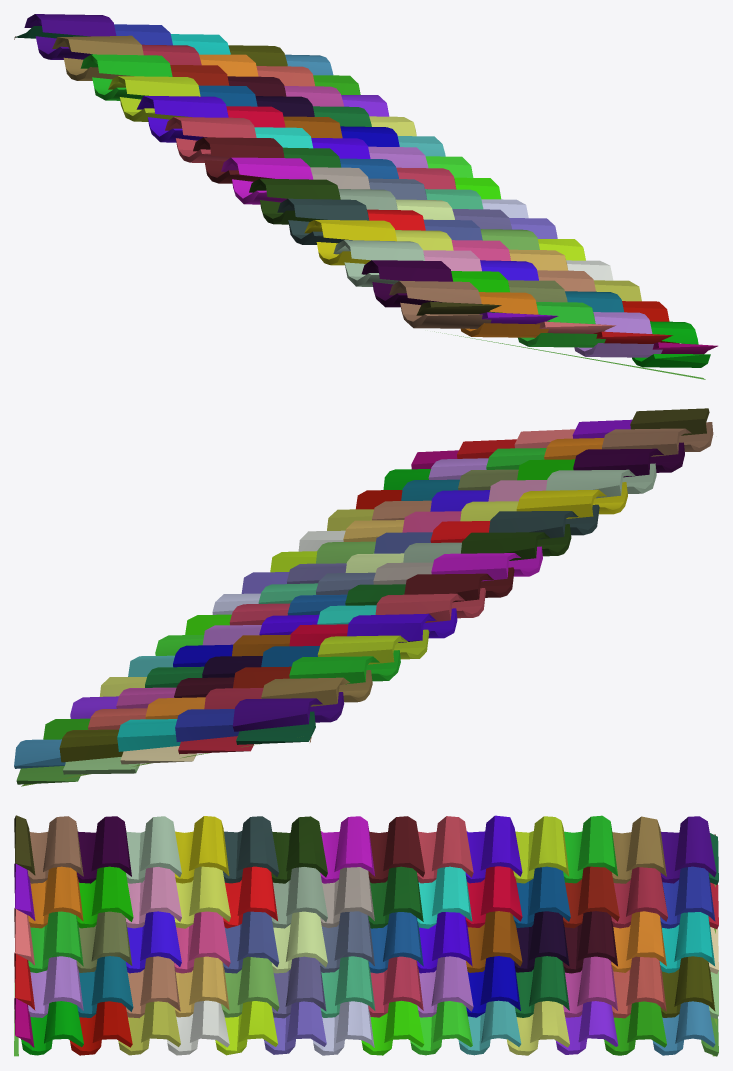
Rendered from Tejado.fbx.
3 views of the same model, one above another, from view 1: azimuth 30°, elevation 25°; view 2: azimuth 150°, elevation 25°; view 3: azimuth 270°, elevation 25° (orthographic). The views are drawn at different scales.
Visible parts, largest first — view 1: techo_afuera_1.001; view 2: techo_afuera_1.001; view 3: techo_afuera_1.001.
Part boxes in pixels (x1=…): techo_afuera_1.001: x1=14, y1=14, x2=717, y2=379; techo_afuera_1.001: x1=14, y1=408, x2=713, y2=786; techo_afuera_1.001: x1=14, y1=815, x2=718, y2=1056.
Size of the model in its own units: 123 by 56.77 by 290.
